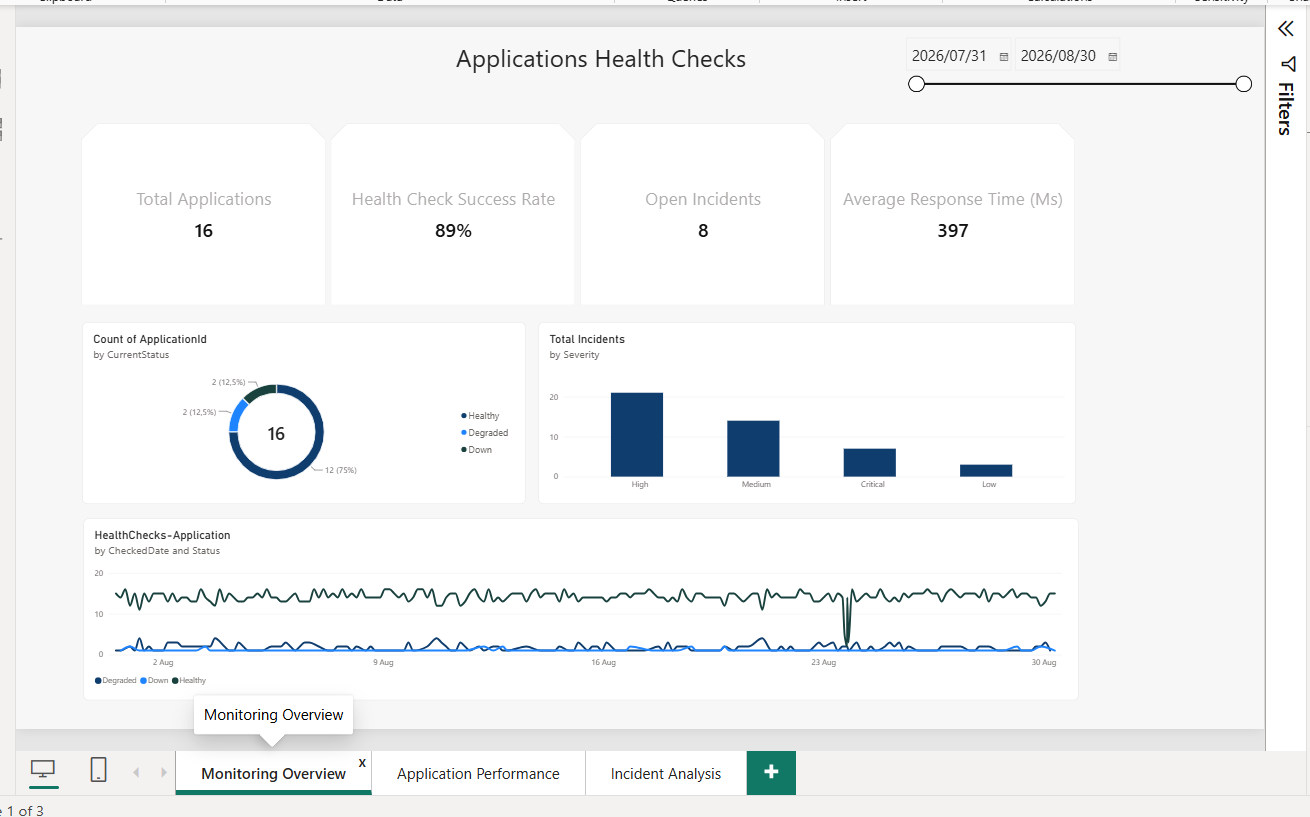

The dashboard page shown, as its layout file describes it:
{"tool":"powerbi","page":{"name":"Monitoring Overview","canvas":[1920,1080],"ordinal":0},"visuals":[{"type":"cardVisual","fields":{"Data":["Table.Total Applications","Table.Health Check Success Rate","Table.Open Incidents","Table.Average Response Time"]},"box":[100.3,147.4,1529.5,280],"z":0},{"type":"donutChart","fields":{"Category":["Applications.CurrentStatus"],"Y":["CountNonNull(Applications.ApplicationId)"]},"box":[101,453.3,681.9,280],"z":1000},{"type":"clusteredColumnChart","fields":{"Category":["Incidents.Severity"],"Y":["Table.Total Incidents"]},"box":[803.8,453.3,826.7,280],"z":2000},{"type":"lineChart","fields":{"Category":["HealthChecks.CheckedDate"],"Series":["HealthChecks.Status"],"Y":["HealthChecks.HealthChecks-Application"]},"box":[102.9,756.2,1530,280],"z":3000},{"type":"textbox","box":[516.2,21,765.7,97.1],"z":4000},{"type":"slicer","fields":{"Values":["HealthChecks.CheckedDate"]},"box":[1361.9,11.4,542.9,118.1],"z":5000}]}

Visuals, with their boxes on the page's 1920x1080 design canvas (x1, y1, x2, y2). These are canvas units, not pixel positions in the 1310x817 screenshot, which may show the page scaled, cropped or inside an application window:
cardVisual - Table.Total Applications x Table.Health Check Success Rate: bbox=[100, 147, 1630, 427]
donutChart - Applications.CurrentStatus x CountNonNull(Applications.ApplicationId): bbox=[101, 453, 783, 733]
clusteredColumnChart - Incidents.Severity x Table.Total Incidents: bbox=[804, 453, 1630, 733]
lineChart - HealthChecks.CheckedDate x HealthChecks.Status: bbox=[103, 756, 1633, 1036]
textbox: bbox=[516, 21, 1282, 118]
slicer - HealthChecks.CheckedDate: bbox=[1362, 11, 1905, 130]
